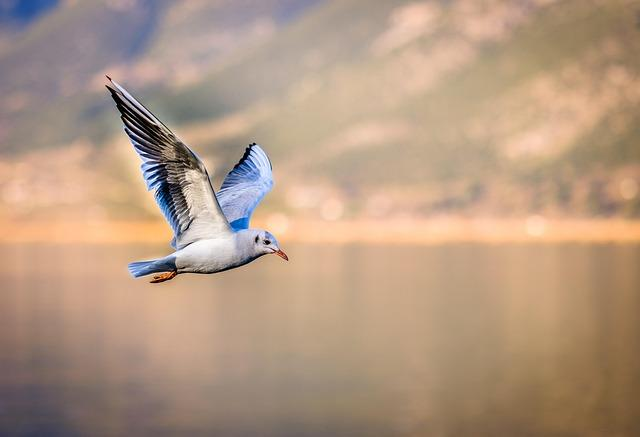Non_Gorille: (26, 1, 438, 437)
